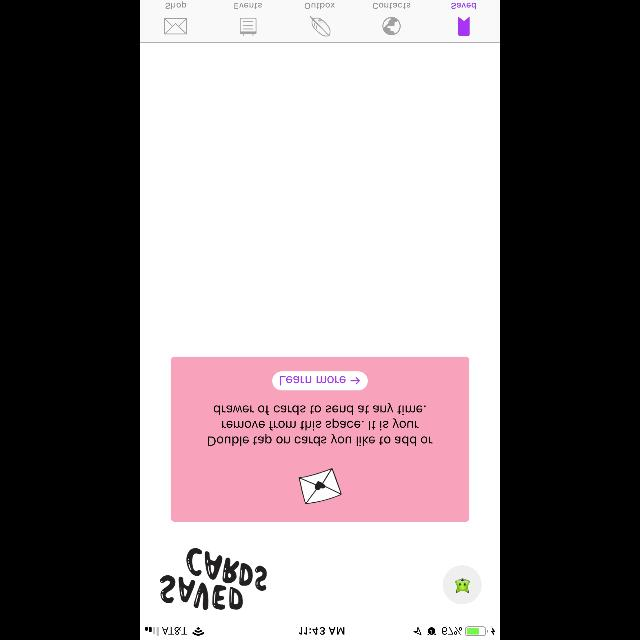icon: (165, 18, 188, 34), (240, 18, 256, 36), (458, 16, 469, 36)
image: (160, 548, 268, 610), (442, 564, 482, 604), (298, 468, 342, 504), (310, 16, 330, 36), (383, 17, 401, 35)
text: (208, 402, 432, 446), (374, 3, 411, 9), (305, 3, 335, 9), (166, 2, 187, 10), (234, 3, 262, 9), (452, 3, 476, 9)
textbutton: (272, 372, 368, 391)
uppertaskbar: (140, 626, 500, 640)
